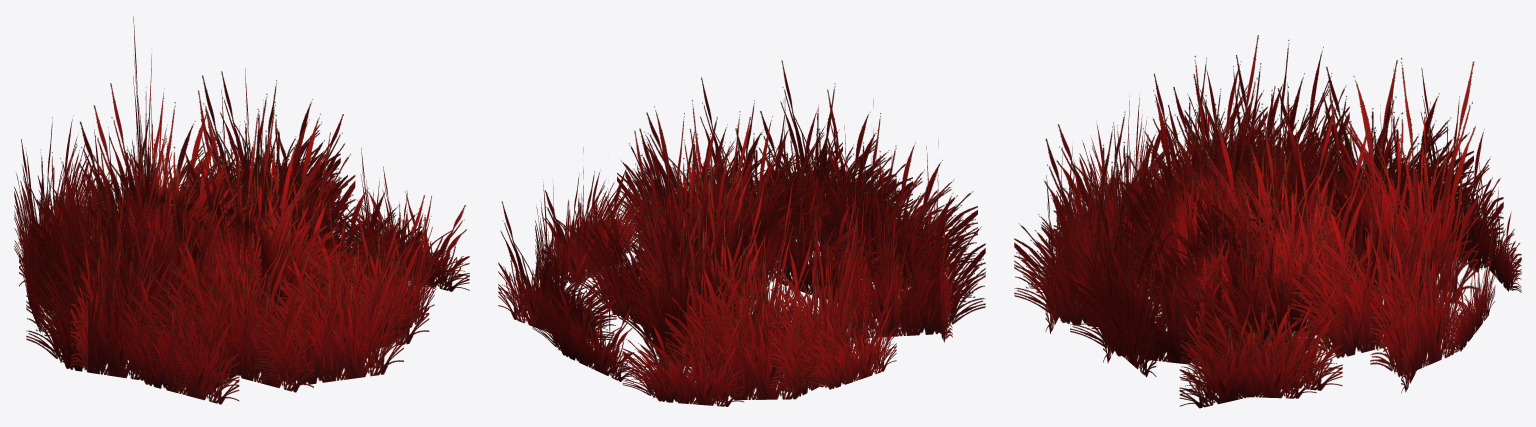
Rendered from FModel2.gltf.
3 renders of one model, left to right at view 1: azimuth 30°, elevation 25°; view 2: azimuth 150°, elevation 25°; view 3: azimuth 270°, elevation 25°, orthographic. The views are drawn at different scales.
Visible parts, largest first — view 1: Grass; view 2: Grass; view 3: Grass.
Part boxes in pixels (x1,y1,x2,y2): Grass: [14, 16, 469, 404]; Grass: [498, 60, 985, 406]; Grass: [1014, 35, 1521, 408].
Size of the model in its own units: 1.87 by 1.05 by 1.89.
Materials: 1 (1 with a texture image).
